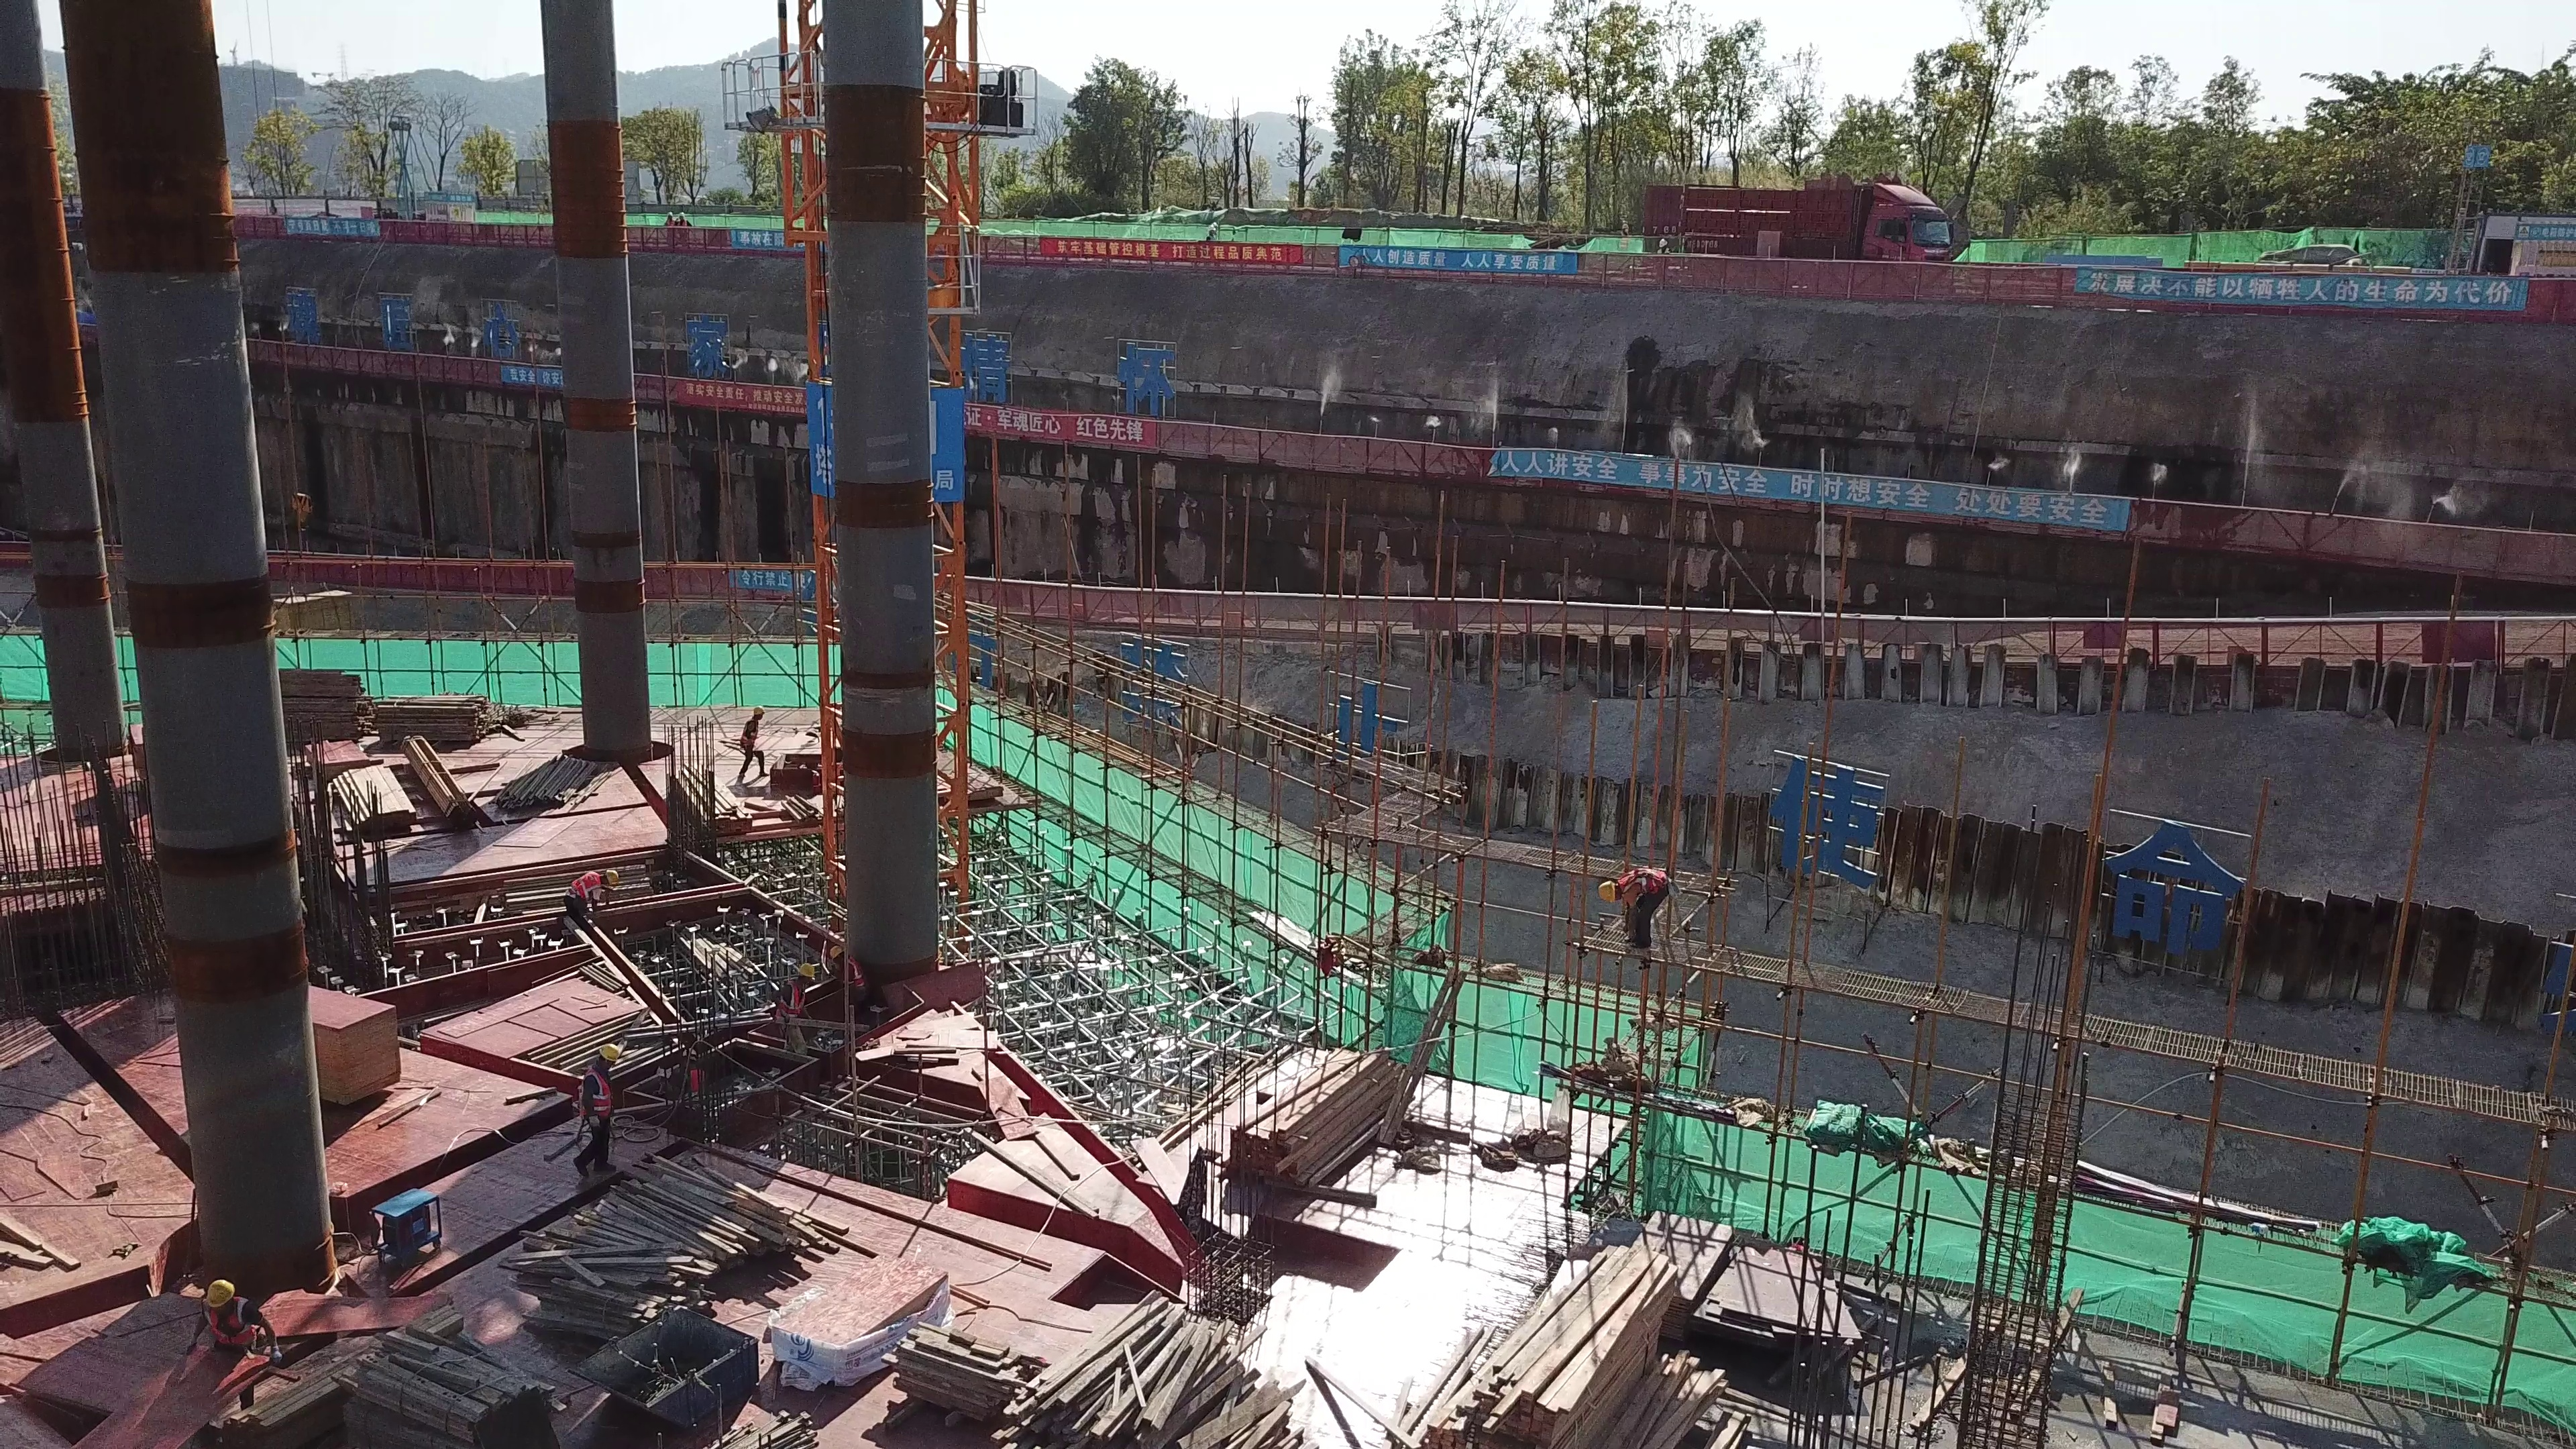board: (779, 1259, 949, 1346), (312, 973, 403, 1109), (309, 739, 358, 775)
cutter: (778, 731, 821, 780)
fence: (1496, 446, 2126, 524), (1738, 262, 2576, 315), (1455, 594, 2147, 657), (2130, 495, 2576, 582), (971, 400, 1491, 472), (958, 571, 1449, 621), (2151, 617, 2576, 659), (249, 345, 562, 398), (985, 229, 1374, 268), (1383, 246, 1733, 284), (274, 554, 573, 596), (232, 212, 545, 248), (631, 364, 799, 415), (647, 559, 806, 594), (627, 221, 811, 246)
helmet: (204, 1277, 235, 1307), (1597, 877, 1617, 903), (598, 1038, 618, 1063), (796, 961, 812, 976), (828, 943, 843, 959), (752, 706, 765, 716), (606, 869, 616, 881), (1660, 238, 1667, 245), (666, 212, 672, 217), (680, 213, 685, 219)
hook: (294, 491, 312, 528)
hopper: (583, 1310, 755, 1433)
person: (186, 1279, 284, 1409), (1599, 866, 1672, 949), (578, 1042, 621, 1171), (768, 964, 812, 1053), (563, 869, 621, 921), (735, 706, 771, 784), (827, 943, 865, 1013), (675, 213, 690, 245), (1658, 239, 1668, 285), (663, 210, 674, 246), (1204, 224, 1220, 243)
slogan: (1509, 458, 2130, 525), (2063, 271, 2516, 305), (980, 413, 1151, 449), (1341, 244, 1583, 268), (1045, 246, 1303, 266), (804, 388, 839, 499), (279, 215, 386, 244), (690, 386, 796, 409), (506, 360, 559, 384), (737, 568, 788, 591), (729, 233, 794, 246)
vest: (202, 1307, 257, 1348), (1610, 867, 1666, 902), (583, 1063, 612, 1122), (572, 871, 602, 897), (780, 986, 802, 1016), (850, 957, 862, 985), (686, 1069, 698, 1090)
wood: (1424, 1258, 1724, 1449), (1241, 1054, 1400, 1179), (370, 1340, 532, 1438)
